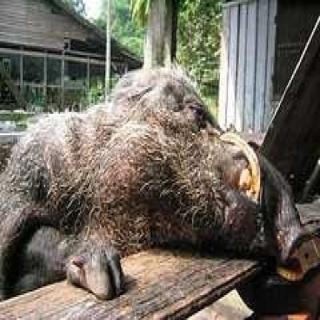Pig: (0, 53, 320, 286)
